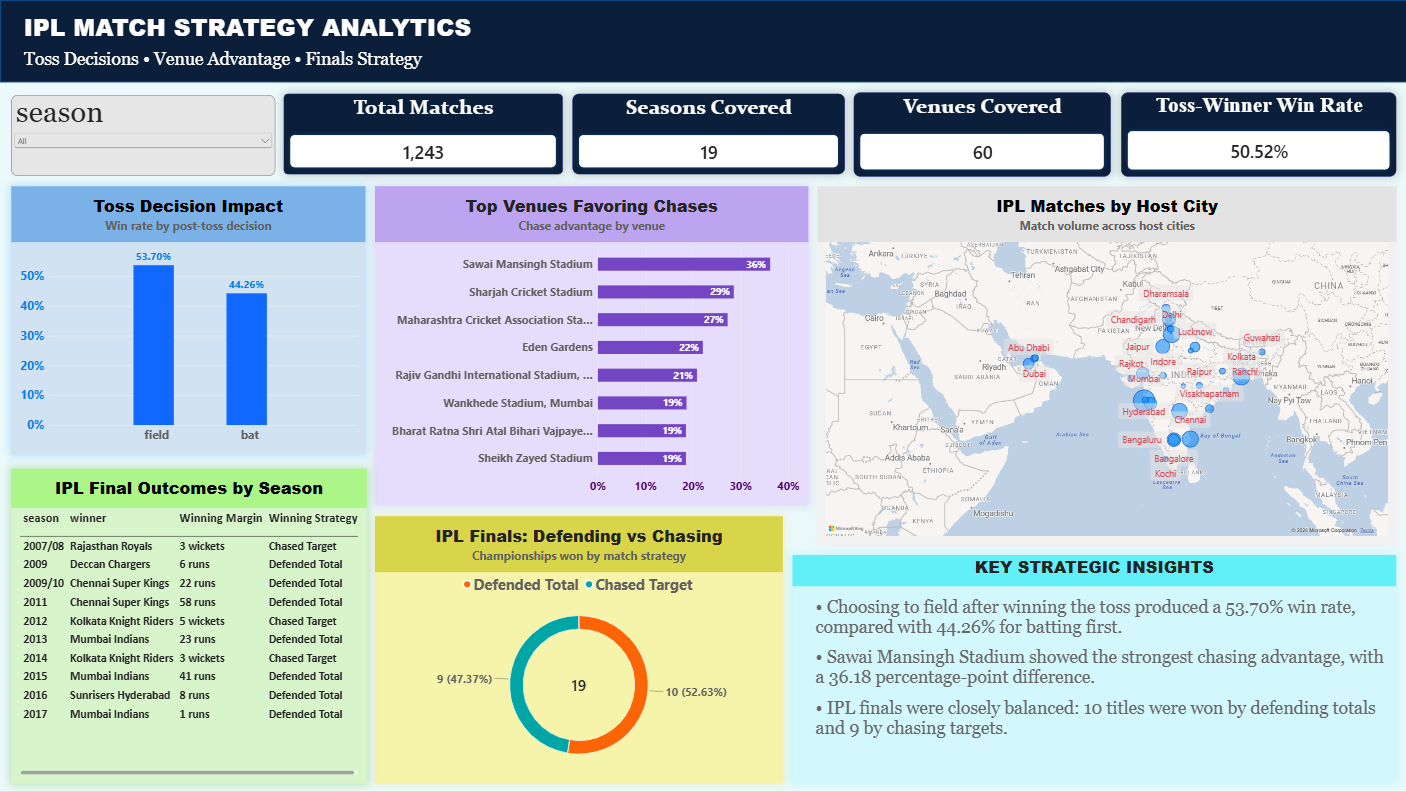

The dashboard page shown, as its layout file describes it:
{"tool":"powerbi","page":{"name":"Match strategy","canvas":[2560,1440],"ordinal":0},"visuals":[{"type":"cardVisual","title":"Seasons Covered","fields":{"Data":["ipl_analytics matches.Seasons covered"]},"box":[1041.1,170.7,495.1,146.3],"z":0},{"type":"cardVisual","title":"Venues Covered","fields":{"Data":["ipl_analytics matches.Venues Covered"]},"box":[1553.1,167.5,467.5,152.5],"z":1000},{"type":"cardVisual","title":"Toss-Winner Win Rate","fields":{"Data":["ipl_analytics matches.Toss winner win%"]},"box":[2037.5,167.5,500,152.5],"z":2000},{"type":"clusteredColumnChart","title":"Toss Decision Impact","fields":{"Category":["ipl_analytics matches.toss_decision"],"Y":["ipl_analytics matches.Toss Decision Win %"]},"box":[20.6,338.2,644.1,488.2],"z":3000},{"type":"clusteredBarChart","title":"Top Venues Favoring Chases","fields":{"Category":["ipl_analytics venue_stats.venue"],"Y":["ipl_analytics venue_stats.Chase Advantage %"]},"box":[682.4,338.2,788.2,579.4],"z":4000},{"type":"donutChart","title":"IPL Finals: Defending vs Chasing","fields":{"Category":["ipl_analytics matches.Winning Strategy"],"Y":["ipl_analytics matches.Total Matches"]},"box":[682.9,939,741.5,485.4],"z":5000},{"type":"tableEx","title":"IPL Final Outcomes by Season","fields":{"Values":["ipl_analytics matches.season","ipl_analytics matches.winner","ipl_analytics matches.Winning Margin","ipl_analytics matches.Winning Strategy"]},"box":[19.5,851.2,646.3,573.2],"z":6000},{"type":"map","title":"IPL Matches by Host City","fields":{"Category":["ipl_analytics matches.city"],"Size":["ipl_analytics matches.Total Matches"]},"box":[1485.3,338.2,1052.9,652.9],"z":7000},{"type":"shape","title":"IPL MATCH STRATEGY ANALYTICS","box":[0,0,2560.1,149.6],"z":8000},{"type":"textbox","box":[43.4,18.1,1415.2,101.3],"z":9000},{"type":"textbox","box":[43.4,88.7,785.4,48.9],"z":10000},{"type":"textbox","title":"KEY STRATEGIC INSIGHTS","box":[1441.5,1009.8,1097.6,414.6],"z":11000},{"type":"cardVisual","title":"Total Matches","fields":{"Data":["ipl_analytics matches.Total Matches Display"]},"box":[516.9,170.7,507.3,146.3],"z":12000},{"type":"slicer","title":"Season","fields":{"Values":["ipl_analytics matches.season"]},"box":[20,172.5,480,147.5],"z":13000}]}

Visuals, with their boxes in screenshot pixels (x1, y1, x2, y2), scaled from the page's 2560x1440 canvas onto the 1406x792 screenshot:
"Seasons Covered" cardVisual: 572, 94, 844, 174
"Venues Covered" cardVisual: 853, 92, 1110, 176
"Toss-Winner Win Rate" cardVisual: 1119, 92, 1394, 176
"Toss Decision Impact" clusteredColumnChart: 11, 186, 365, 455
"Top Venues Favoring Chases" clusteredBarChart: 375, 186, 808, 505
"IPL Finals: Defending vs Chasing" donutChart: 375, 516, 782, 783
"IPL Final Outcomes by Season" tableEx: 11, 468, 366, 783
"IPL Matches by Host City" map: 816, 186, 1394, 545
"IPL MATCH STRATEGY ANALYTICS" shape: 0, 0, 1405, 82
textbox: 24, 10, 801, 66
textbox: 24, 49, 455, 76
"KEY STRATEGIC INSIGHTS" textbox: 792, 555, 1395, 783
"Total Matches" cardVisual: 284, 94, 563, 174
"Season" slicer: 11, 95, 275, 176
